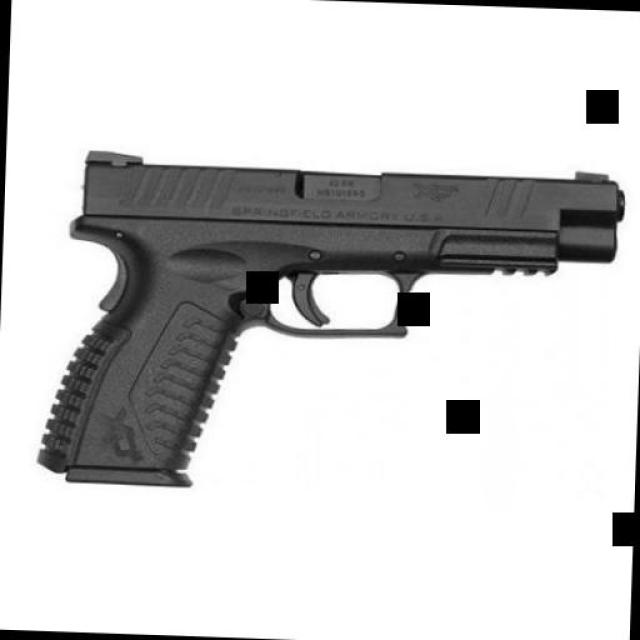gun: (29, 144, 625, 506)
